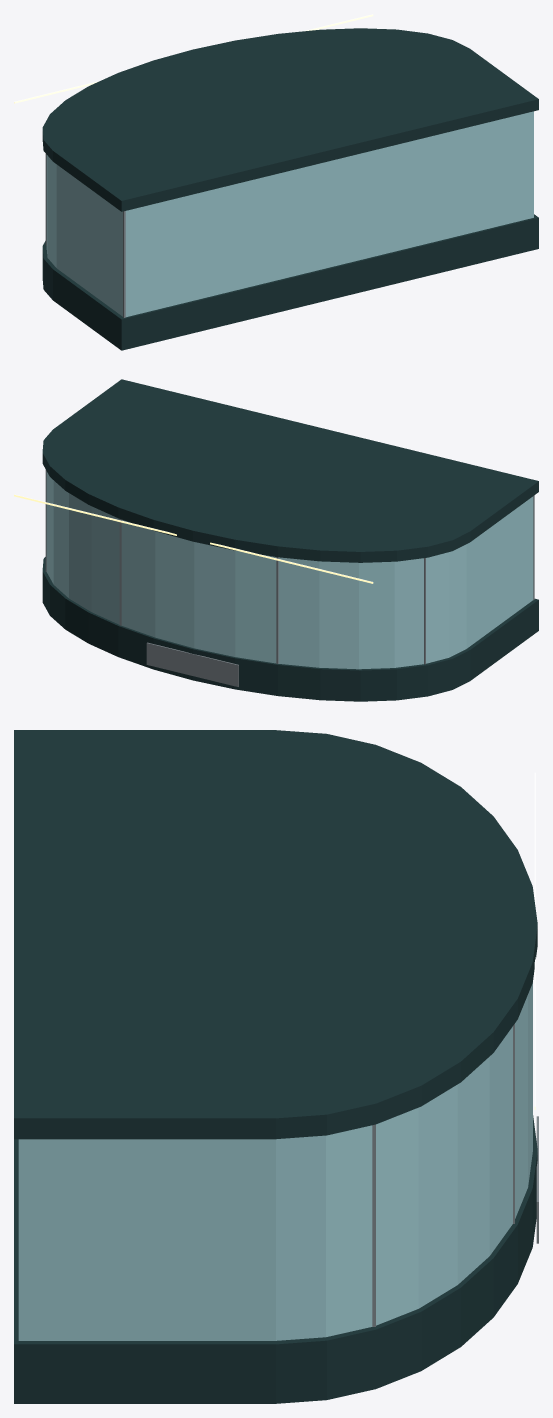
Rendered from shark_panorama_tank.fbx.
The picture shows the model from 3 angles, top to bottom: view 1: azimuth 30°, elevation 25°; view 2: azimuth 150°, elevation 25°; view 3: azimuth 270°, elevation 25°; orthographic projection. The views are drawn at different scales.
Visible parts, largest first — view 1: shark_panorama_tank; view 2: shark_panorama_tank; view 3: shark_panorama_tank.
Boxes of the visible parts, bbox=[...] form: shark_panorama_tank: bbox=[14, 14, 538, 350]; shark_panorama_tank: bbox=[14, 379, 538, 701]; shark_panorama_tank: bbox=[14, 730, 538, 1403].
Size of the model in its own units: 14 by 4.8 by 8.
